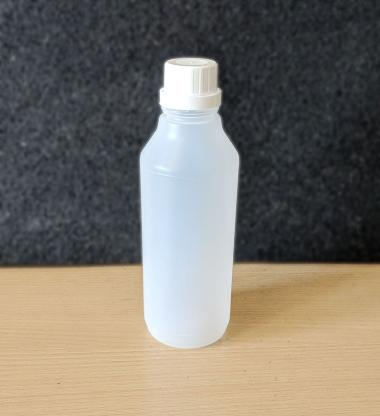Plastic Bottle: (138, 56, 240, 348)
